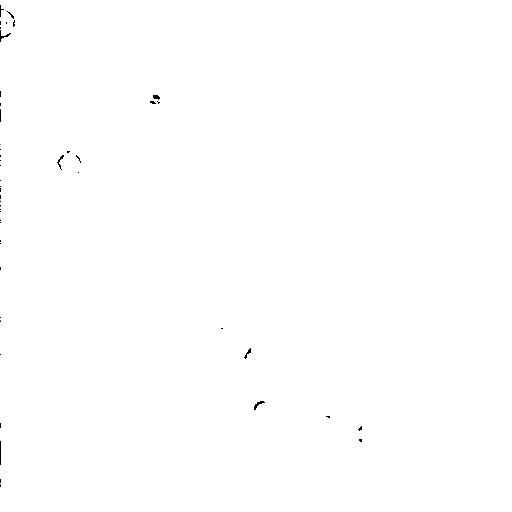micro-algae: (310, 227, 404, 325), (176, 107, 237, 170), (41, 272, 99, 333), (42, 356, 100, 413), (2, 430, 32, 476), (346, 414, 372, 448), (236, 340, 264, 368), (58, 149, 82, 177), (1, 4, 15, 36), (253, 396, 274, 416), (0, 93, 8, 113)
